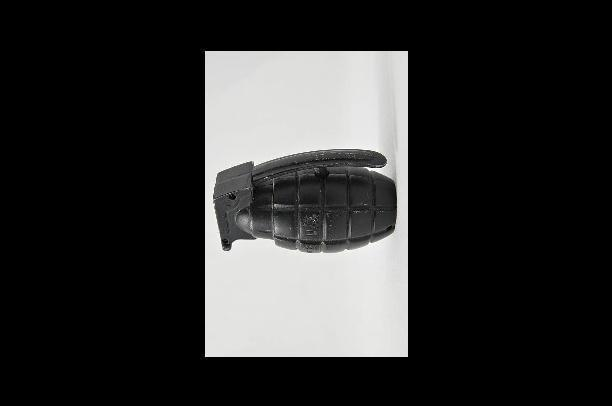Grenade: (212, 147, 397, 251)
